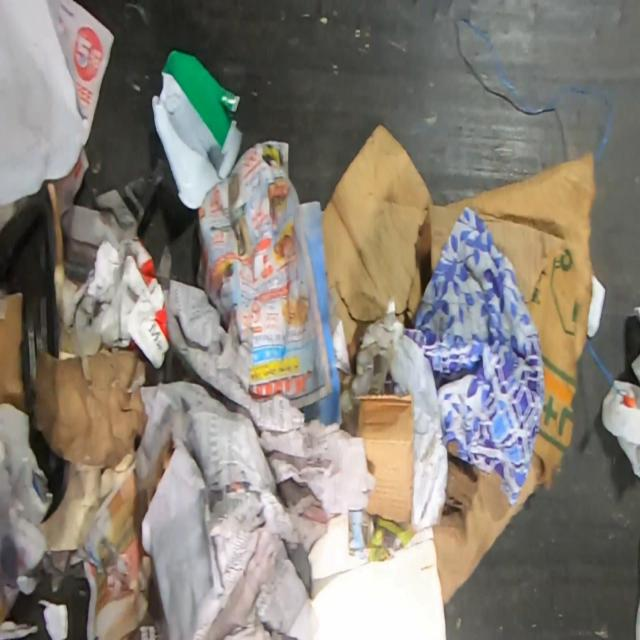cardboard: (321, 122, 600, 608), (34, 342, 149, 474), (338, 388, 415, 532), (0, 290, 24, 412)
rigid_plastic: (0, 193, 66, 522), (148, 48, 244, 212)
